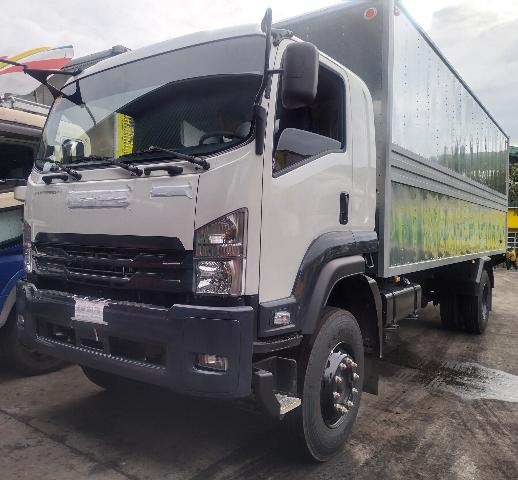truck: (13, 0, 512, 457)
